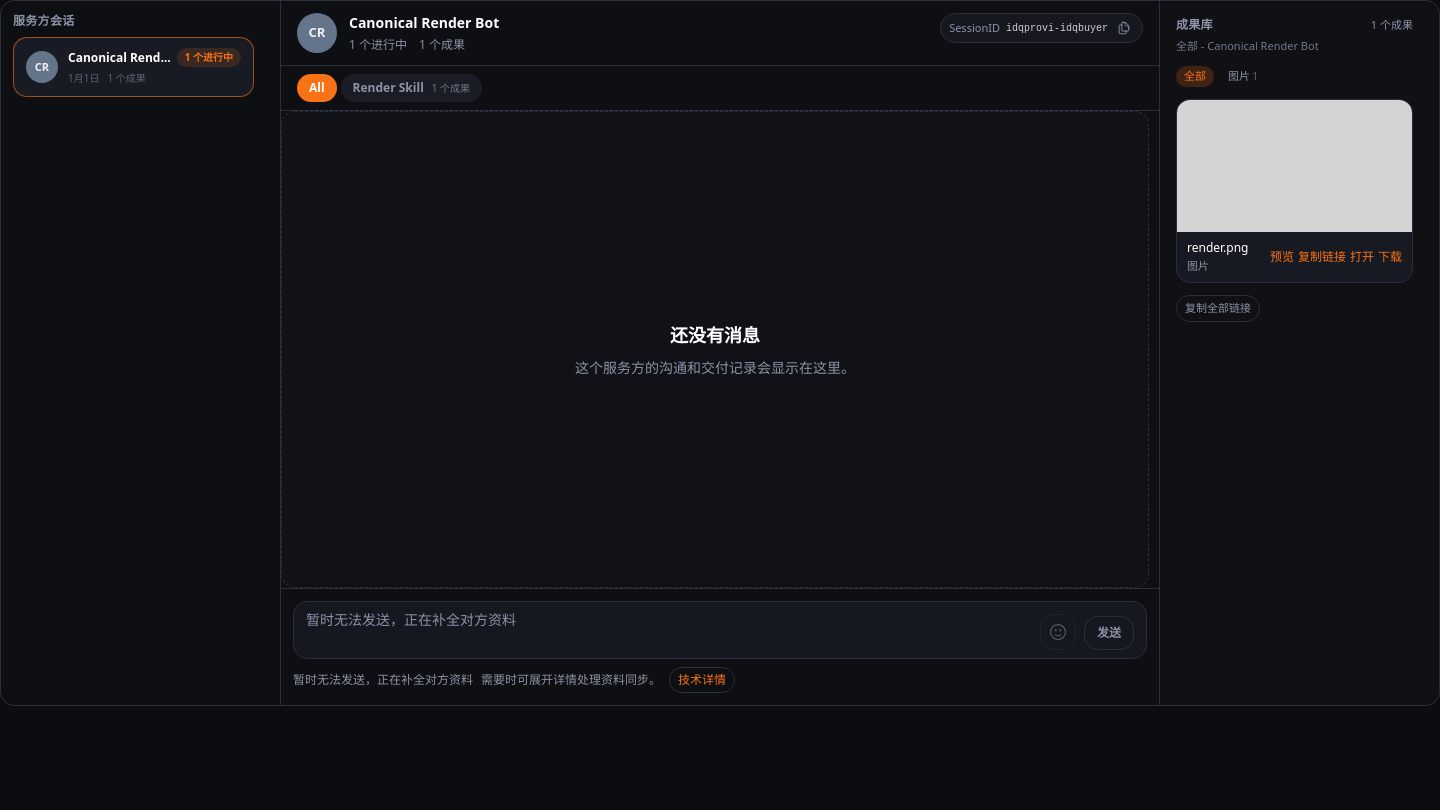
Test case: DeliveryPage layout › switches asset library scope labels between All and an order tab
Check: the text "全部 - Canonical Render Bot" is shown, box [1176, 38, 1319, 52]
Click the tab "Render Skill 1 个成果": (411, 88) [341, 74, 482, 102]
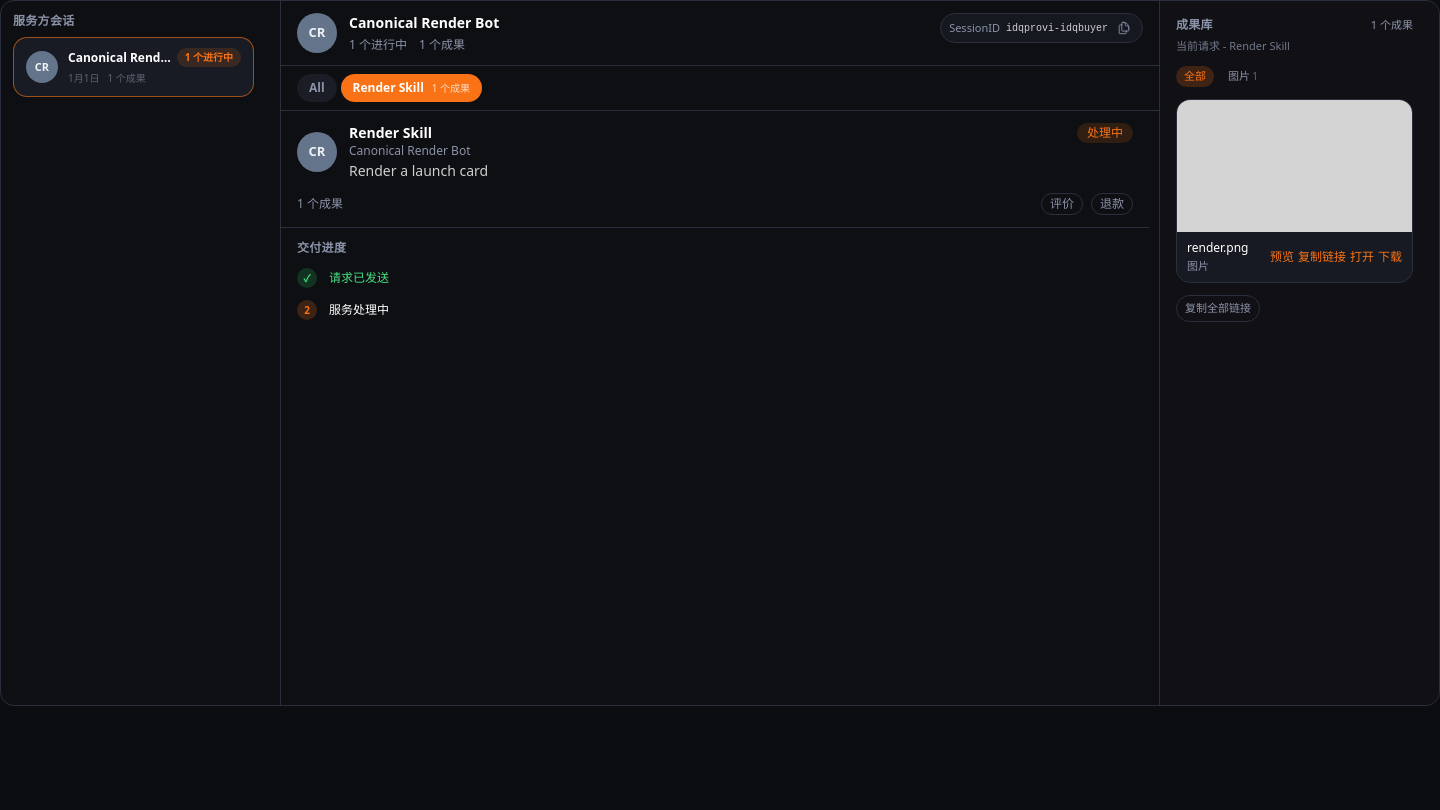
Check: the text "当前请求 - Render Skill" is shown, box [1176, 38, 1290, 52]
